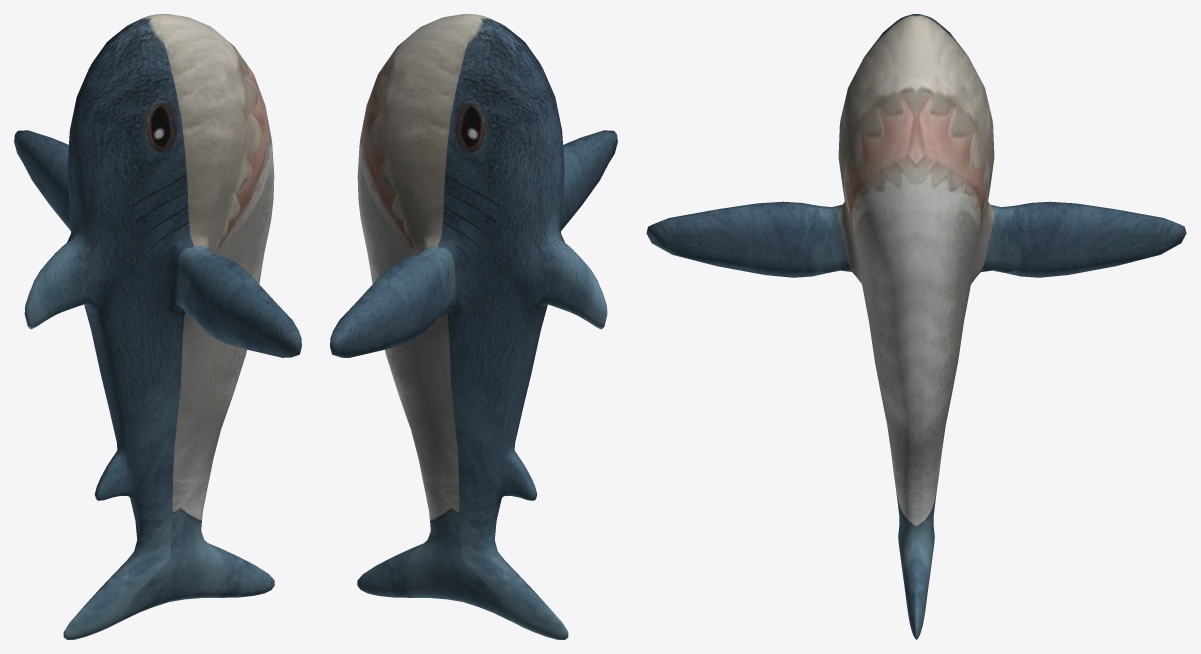
The model's file is Shark.glb.
3 renders of one model, left to right at view 1: azimuth 30°, elevation 25°; view 2: azimuth 150°, elevation 25°; view 3: azimuth 270°, elevation 25°, orthographic. The views are drawn at different scales.
Size of the model in its own units: 320 by 737 by 633.
1 material, 1 textured.
